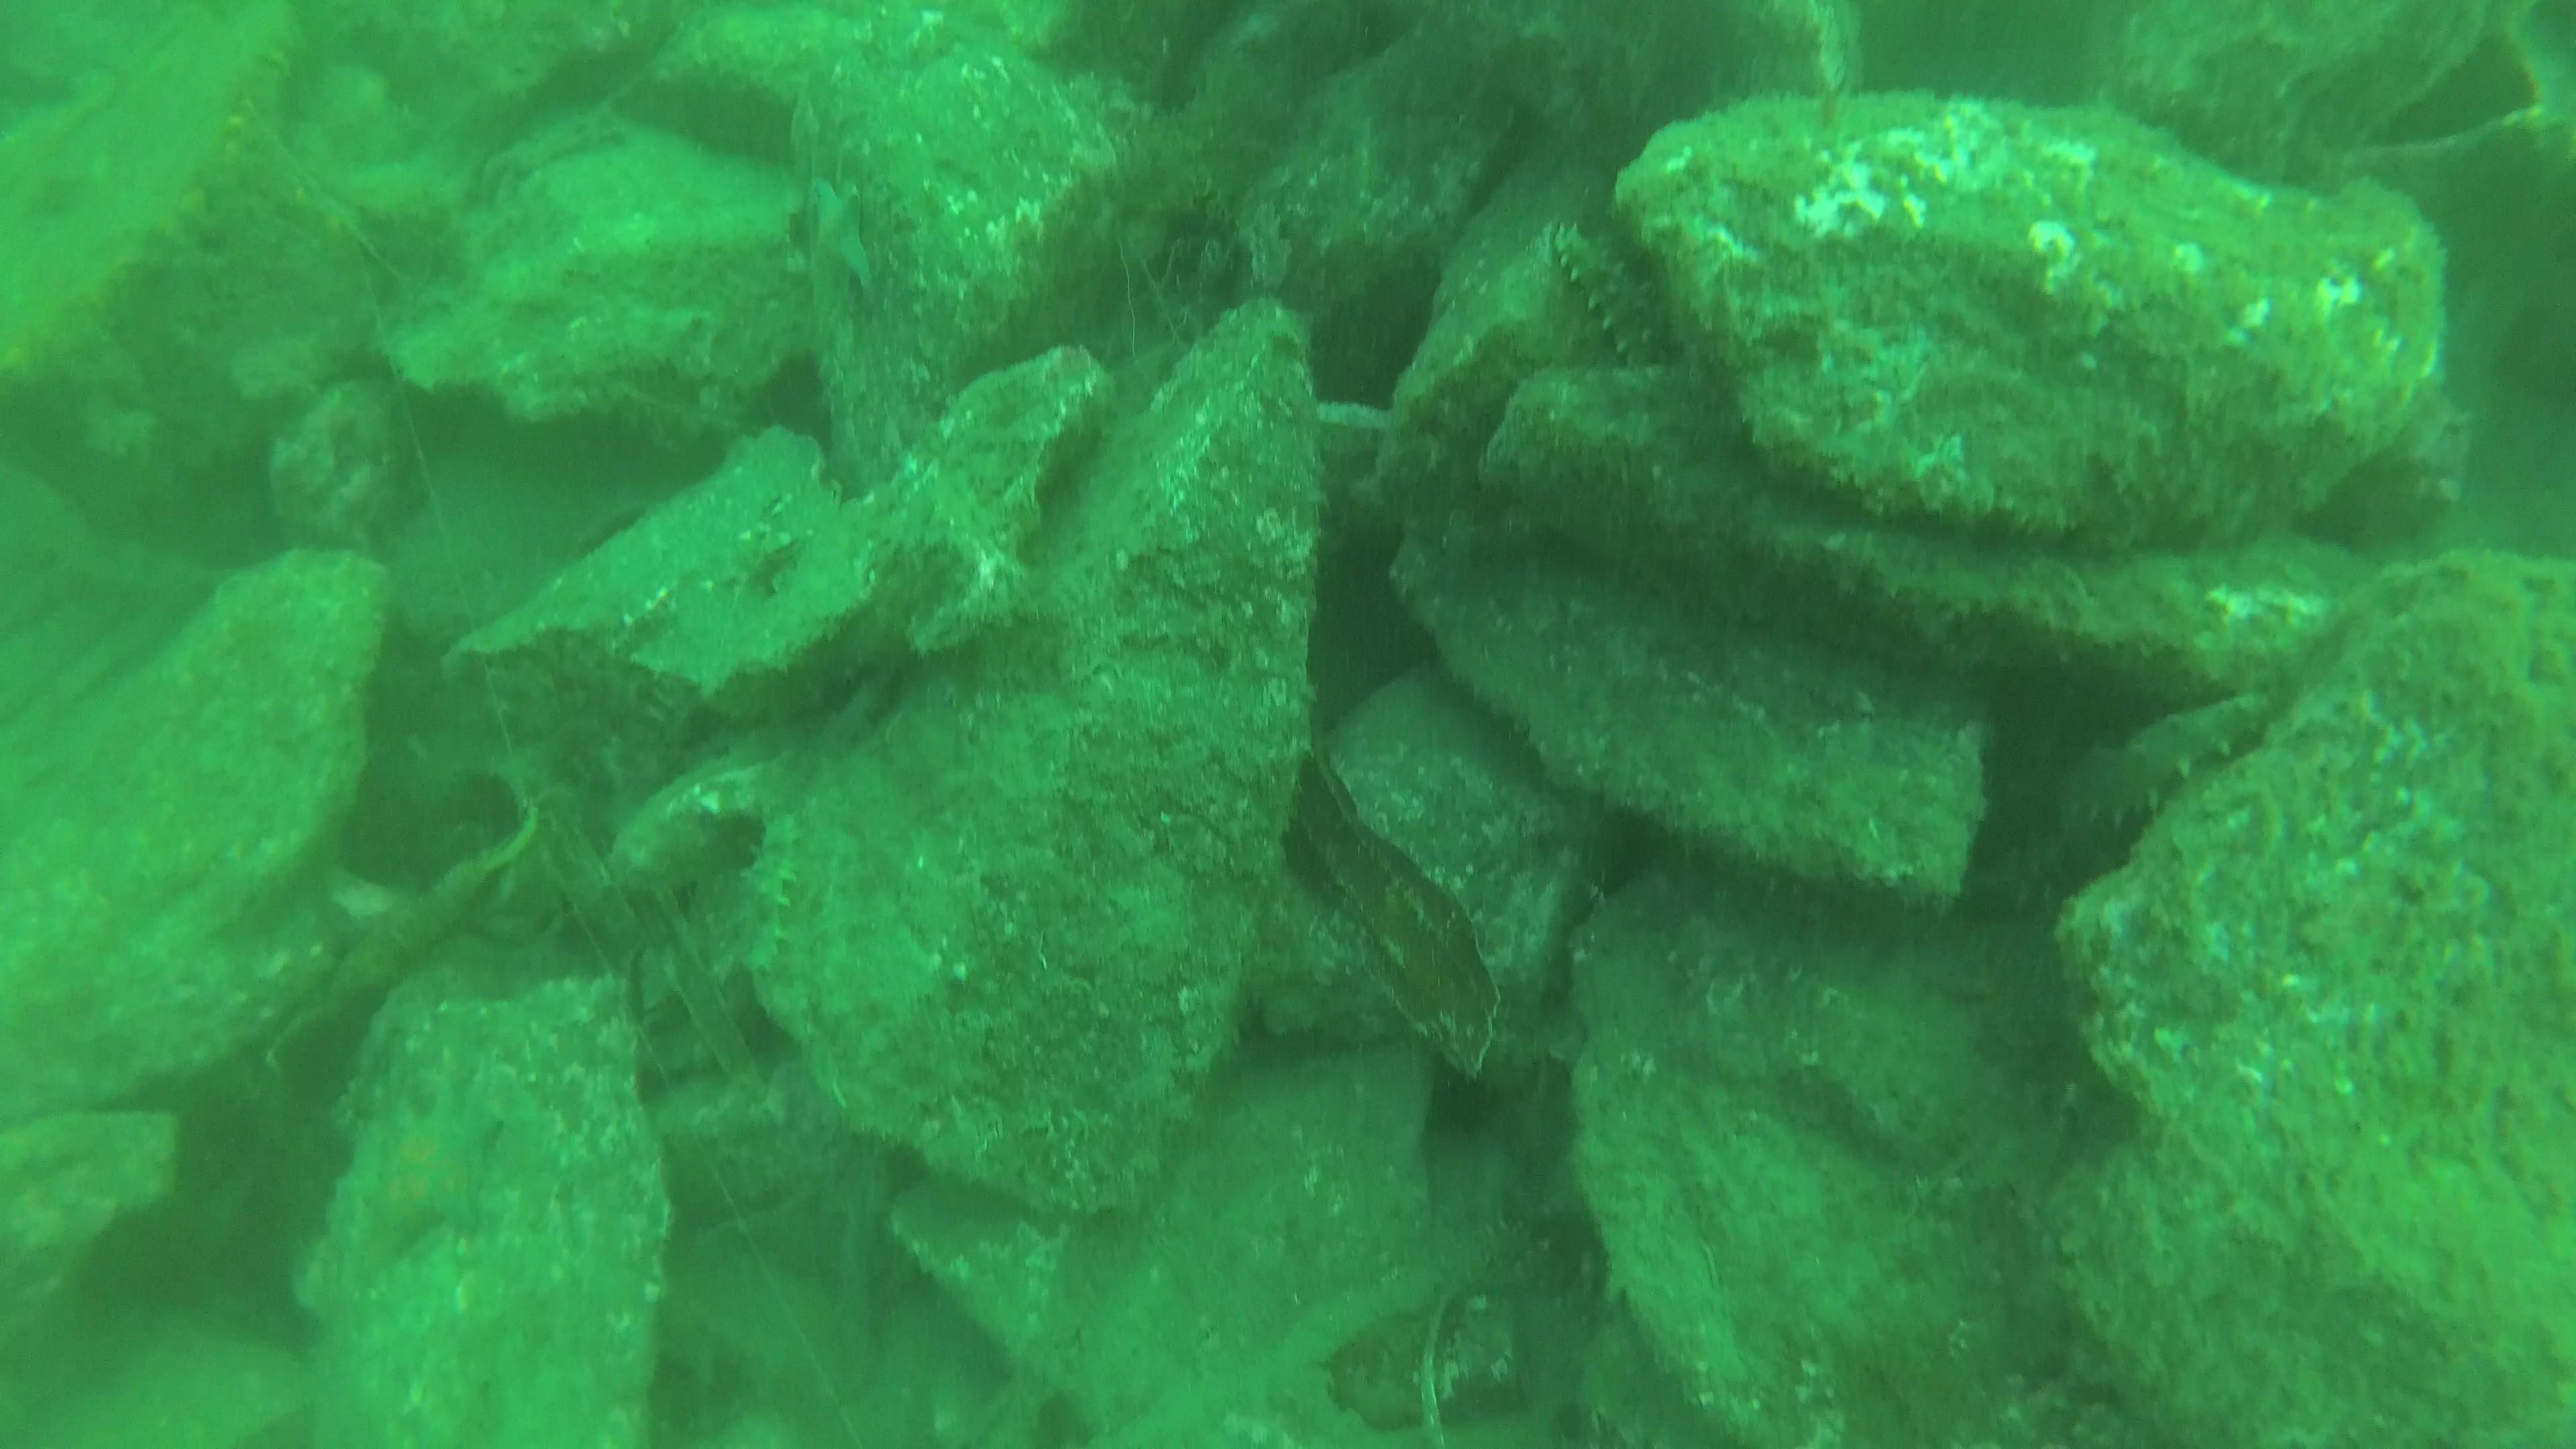holothurian: (2045, 679, 2286, 849), (1539, 226, 1683, 372), (718, 796, 807, 978)
starfish: (333, 1085, 513, 1288), (794, 170, 883, 361)
